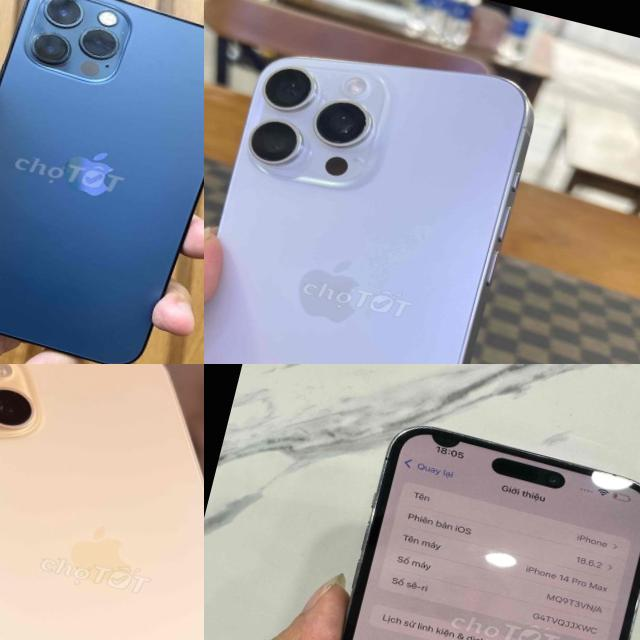gen_12_13: (0, 0, 204, 364)
gen_14: (272, 405, 640, 640)
gen_15: (204, 15, 550, 364), (0, 364, 204, 640)
screen_defect: (408, 411, 479, 464)
